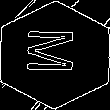M_E: (26, 32, 84, 78)
